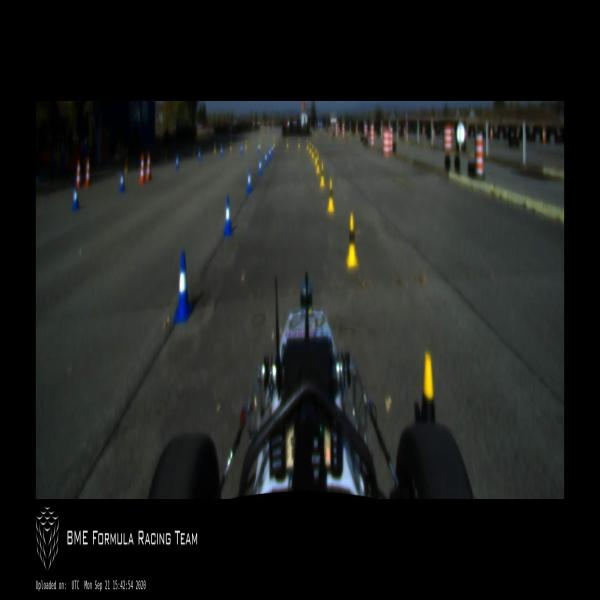blue_cone: (173, 253, 192, 321), (224, 198, 232, 235), (73, 187, 78, 208), (247, 170, 251, 193), (120, 171, 124, 191), (264, 153, 268, 164), (259, 158, 261, 174), (176, 154, 178, 168), (269, 147, 271, 159), (198, 149, 200, 160), (258, 143, 260, 153), (271, 144, 273, 154), (221, 145, 222, 155), (241, 144, 242, 154)
large_orange_cone: (139, 153, 145, 182), (76, 160, 81, 189), (85, 159, 90, 185), (146, 152, 150, 180)
yellow_cone: (420, 354, 436, 426), (345, 213, 358, 267), (328, 180, 334, 212), (320, 163, 325, 186), (124, 160, 128, 174), (317, 156, 320, 172), (314, 148, 317, 164), (309, 141, 312, 154), (312, 143, 314, 158), (245, 139, 247, 150), (298, 138, 300, 148), (259, 138, 261, 148), (306, 140, 308, 149), (230, 141, 232, 150), (286, 139, 288, 147), (214, 144, 216, 152), (273, 138, 275, 146)
